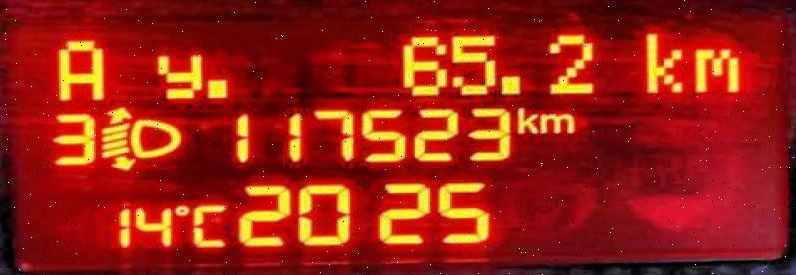-: (202, 74, 229, 101), (498, 73, 521, 98)
0: (294, 180, 348, 249)
1: (226, 108, 259, 167), (279, 108, 306, 165), (114, 204, 132, 251)
2: (373, 178, 428, 248), (542, 29, 599, 96), (236, 178, 286, 249), (411, 105, 461, 164)
3: (465, 104, 512, 164), (50, 111, 97, 165)
4: (132, 205, 172, 246)
5: (433, 178, 491, 247), (450, 30, 497, 96), (358, 105, 406, 164)
6: (398, 32, 448, 98)
7: (306, 107, 353, 163)
X: (54, 34, 104, 103), (637, 27, 685, 93), (147, 47, 202, 100), (691, 44, 741, 95), (191, 201, 228, 249), (536, 110, 575, 134), (513, 104, 537, 134)
